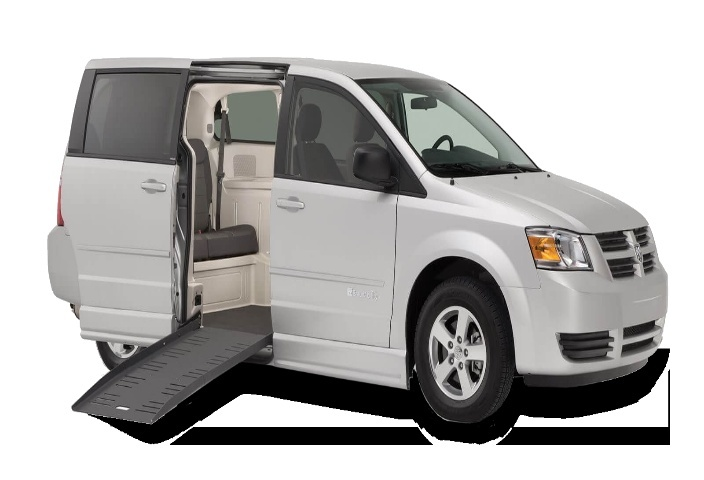camper: (40, 33, 660, 480)
